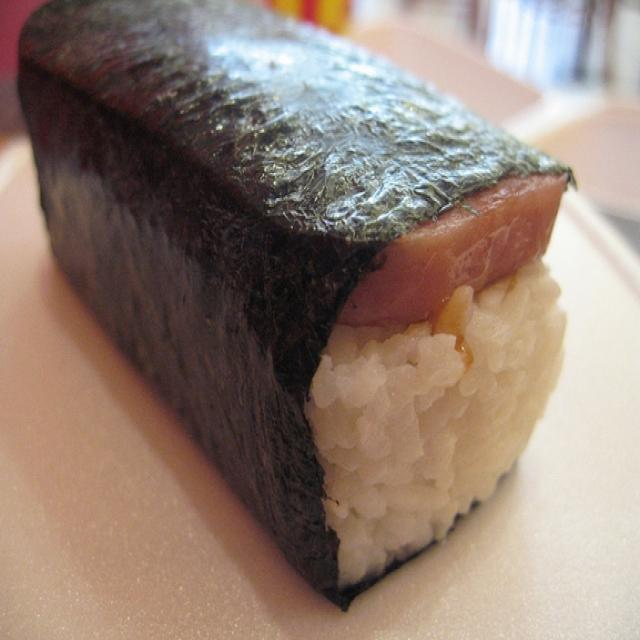寿司卷物: (14, 4, 592, 615)
